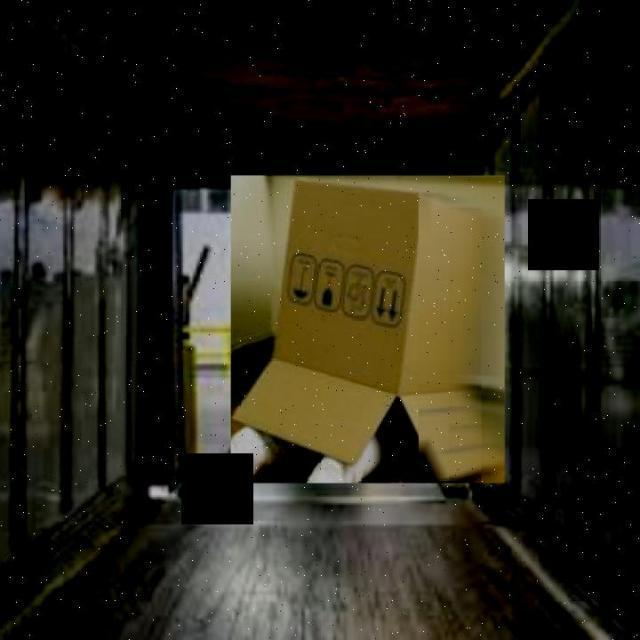box: (228, 172, 510, 488)
